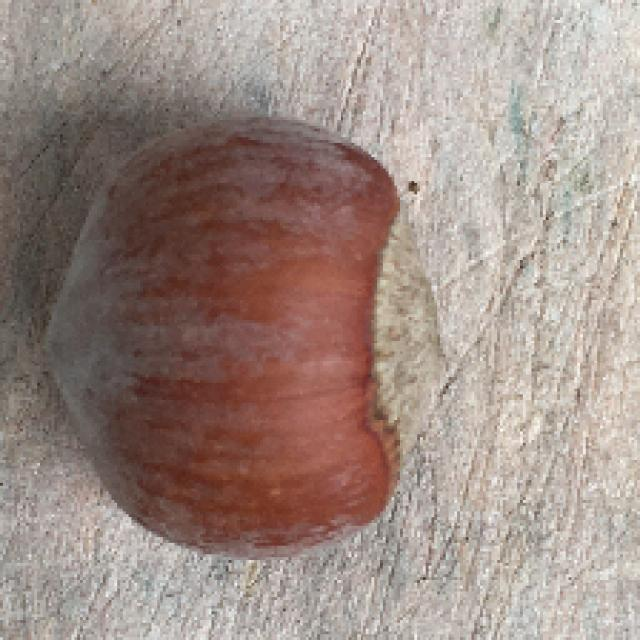qualityHazelnut: (37, 119, 452, 555)
